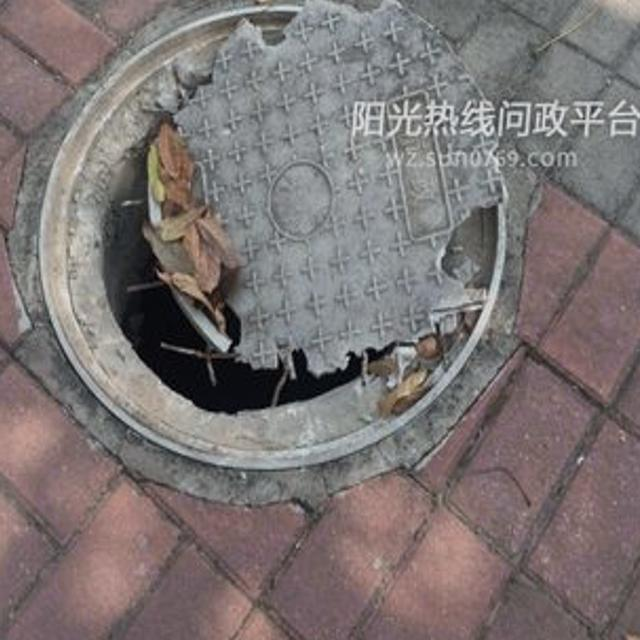broke: (0, 0, 565, 508)
